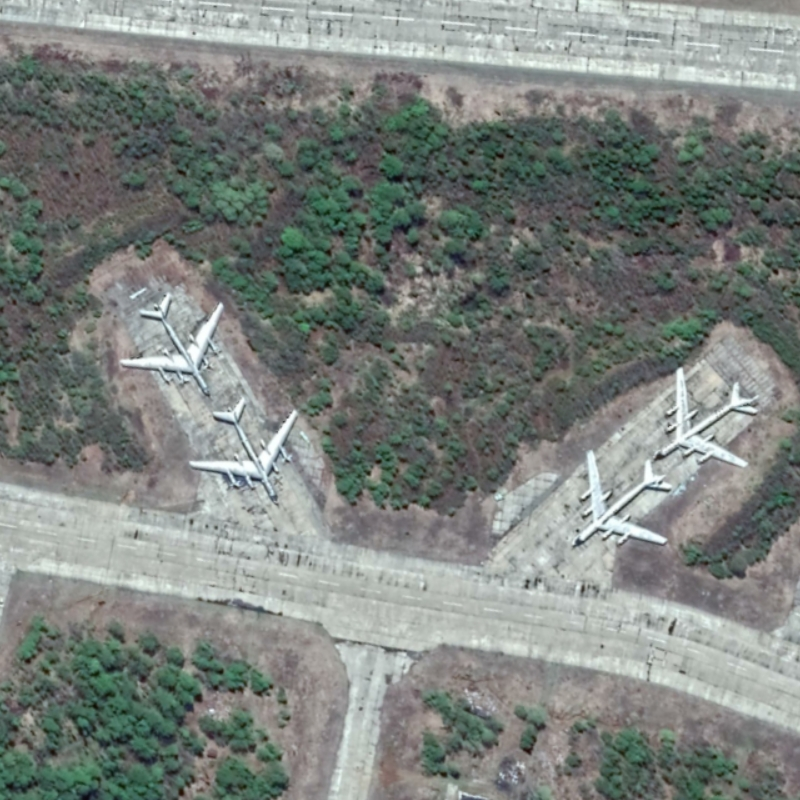A17: (185, 394, 303, 509), (116, 291, 230, 401), (649, 364, 763, 471), (569, 447, 671, 553)
